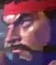ryu: (0, 0, 50, 63)
